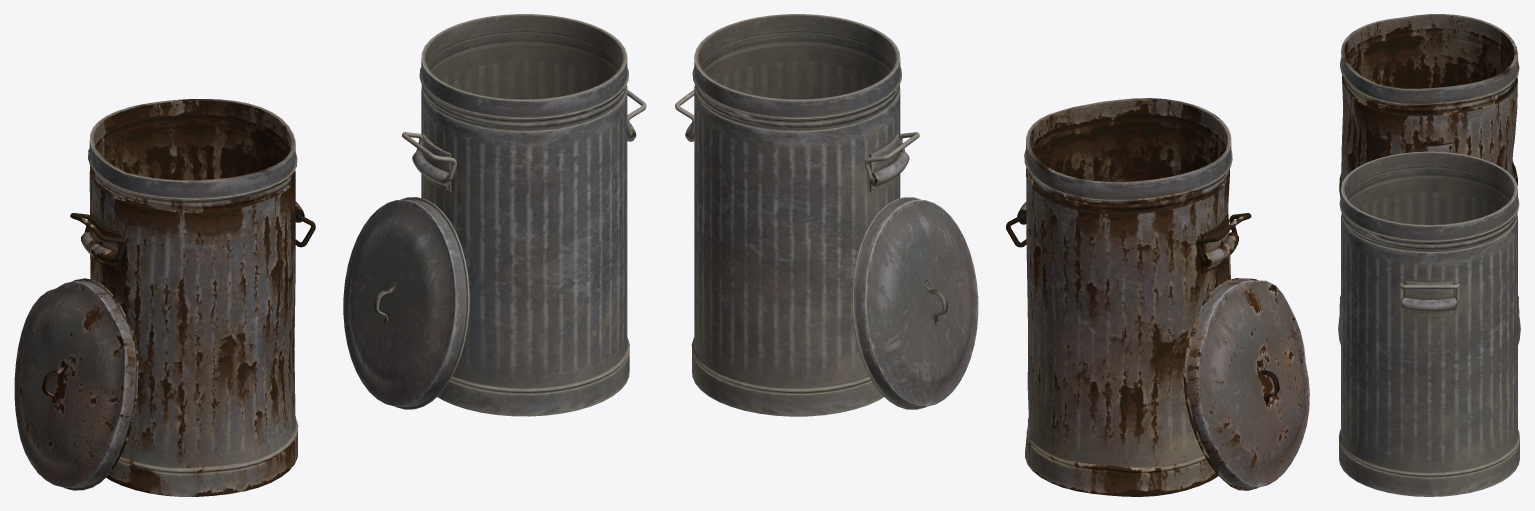
File: metal_trash_can.glb
The picture shows the model from 3 angles, left to right: view 1: azimuth 30°, elevation 25°; view 2: azimuth 150°, elevation 25°; view 3: azimuth 270°, elevation 25°; orthographic projection. The views are drawn at different scales.
Visible parts, largest first — view 1: metal_trash_can, metal_trash_can_rust, metal_trash_can_lid, metal_trash_can_rust_lid; view 2: metal_trash_can, metal_trash_can_rust, metal_trash_can_lid, metal_trash_can_rust_lid; view 3: metal_trash_can, metal_trash_can_rust, metal_trash_can_handle_right.
Boxes of the visible parts, x1,y1,x2,y2 form: metal_trash_can: [412, 14, 636, 416]; metal_trash_can_rust: [81, 99, 304, 496]; metal_trash_can_lid: [343, 197, 469, 409]; metal_trash_can_rust_lid: [14, 278, 138, 490]; metal_trash_can: [685, 14, 909, 416]; metal_trash_can_rust: [1017, 98, 1238, 496]; metal_trash_can_lid: [852, 197, 978, 409]; metal_trash_can_rust_lid: [1183, 278, 1309, 490]; metal_trash_can: [1338, 151, 1519, 496]; metal_trash_can_rust: [1339, 14, 1519, 316]; metal_trash_can_handle_right: [1399, 283, 1459, 303].
Size of the model in its own units: 1.78 by 0.9062 by 0.5563.
Materials: 2 (2 with a texture image).
